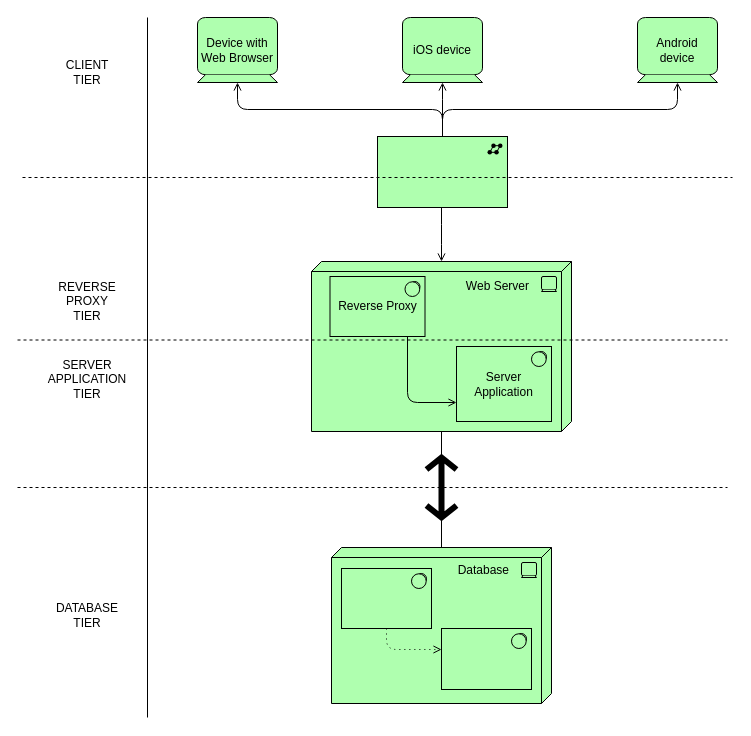
This 751x736 diagram has some shape labels left out. Here are the shapes that lost their labels. From the top down, the centre of each, then its label:
the point at 442,172: Internet
the point at 386,598: RDBMS
the point at 486,659: File Storage
